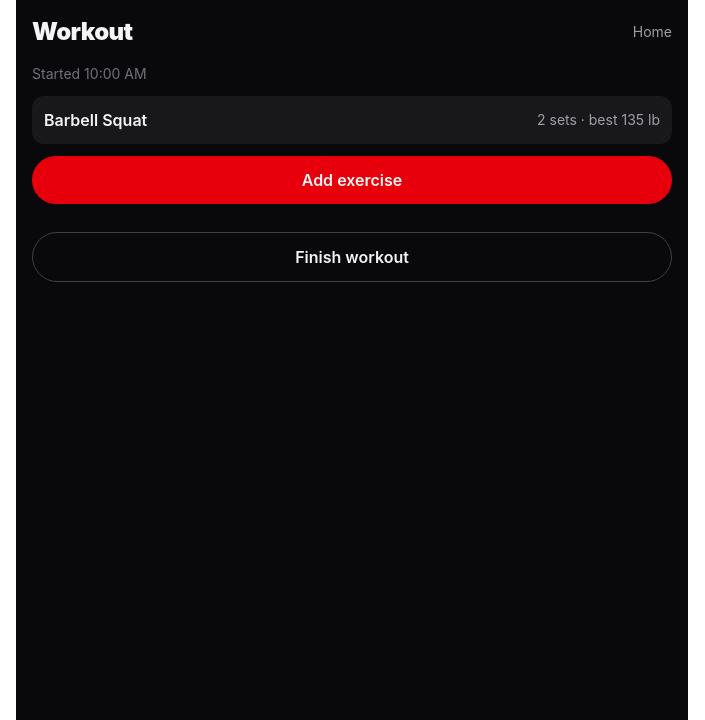
Test case: WorkoutPage › reloads the workout after a delete so recomputed records show
The width and height of the screenshot is (705, 720).
Click the button "Barbell Squat 2 sets · best 135 lb". click: (96, 120)
box: top-left (32, 96), bottom-right (672, 144)
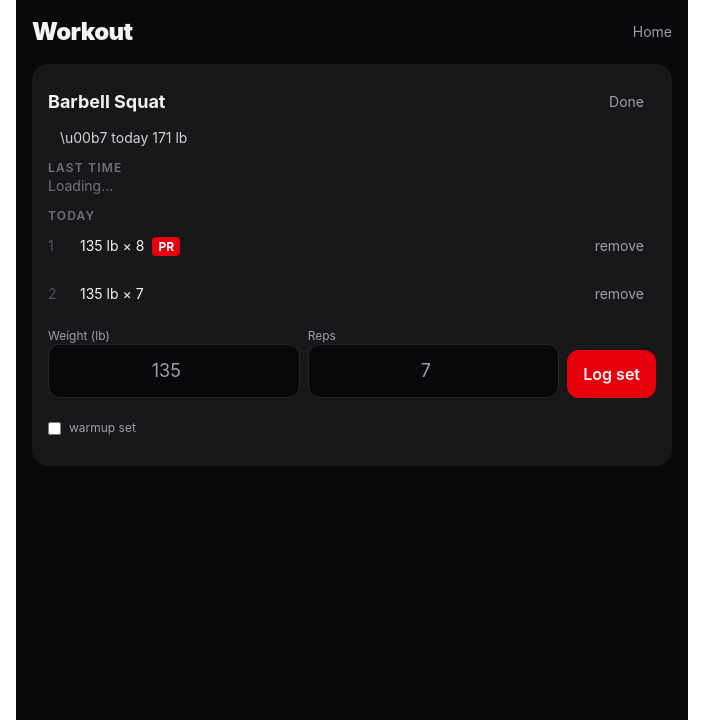
expect the number of list items is 2: met, box top-left (48, 224), bottom-right (656, 268); top-left (48, 272), bottom-right (656, 316)
Click the button named "Remove set 1". click: (619, 246)
box: top-left (583, 224), bottom-right (656, 268)
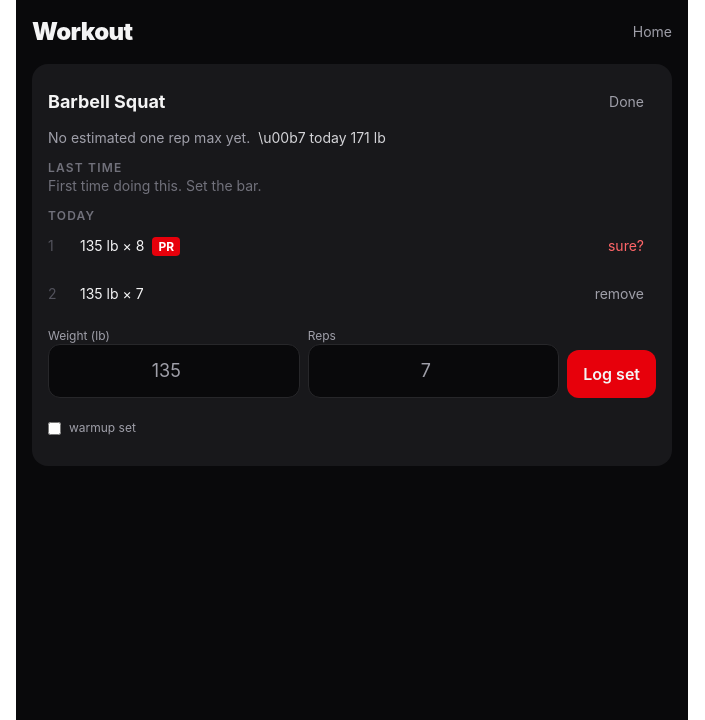
Click the button named "Confirm removing set 1". click: (626, 246)
box: top-left (596, 224), bottom-right (656, 268)
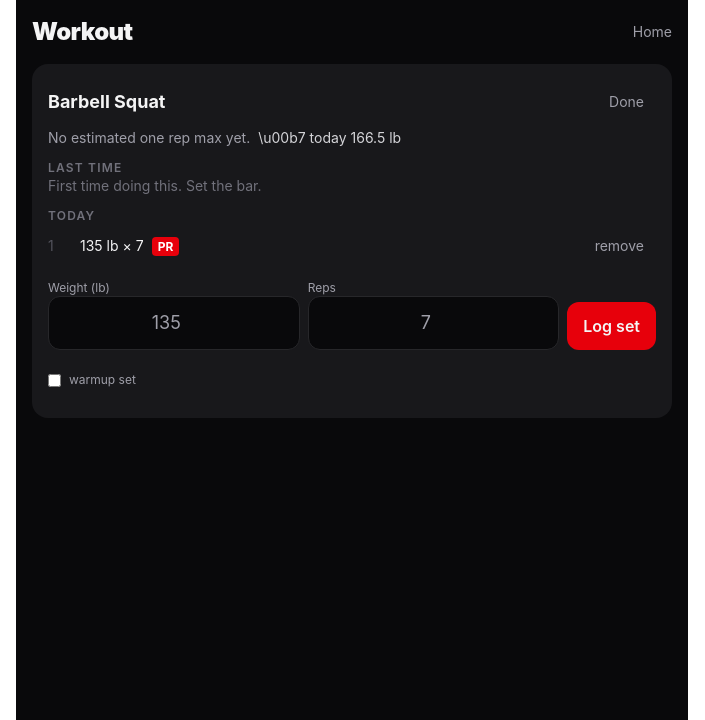
expect the text "PR" is shown: met, box top-left (152, 237), bottom-right (179, 256)
expect the number of list items is 1: met, box top-left (48, 224), bottom-right (656, 268)
